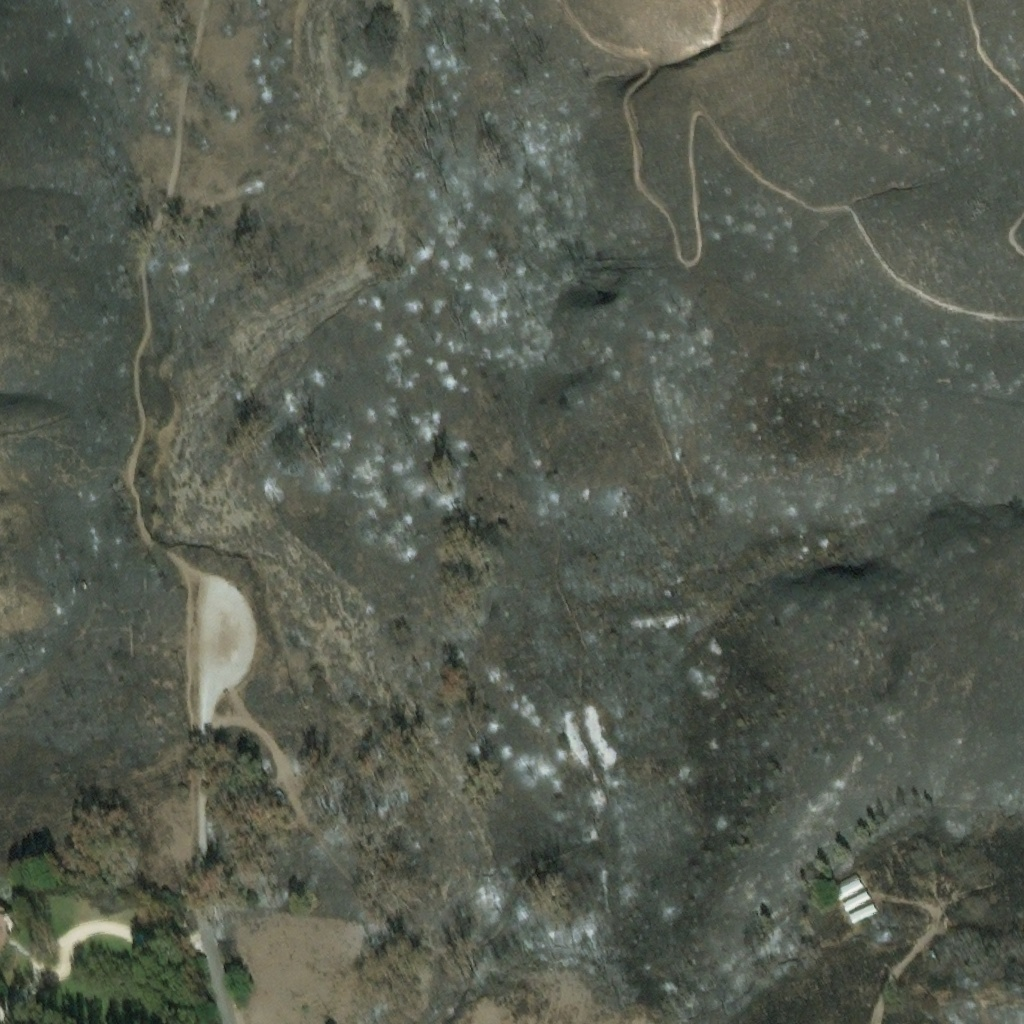0 no-damage: (835, 871, 862, 893), (841, 890, 869, 910), (847, 903, 875, 922)
3 destroyed: (275, 790, 284, 798), (234, 1013, 240, 1023)
4 un-classified: (0, 910, 14, 960)
